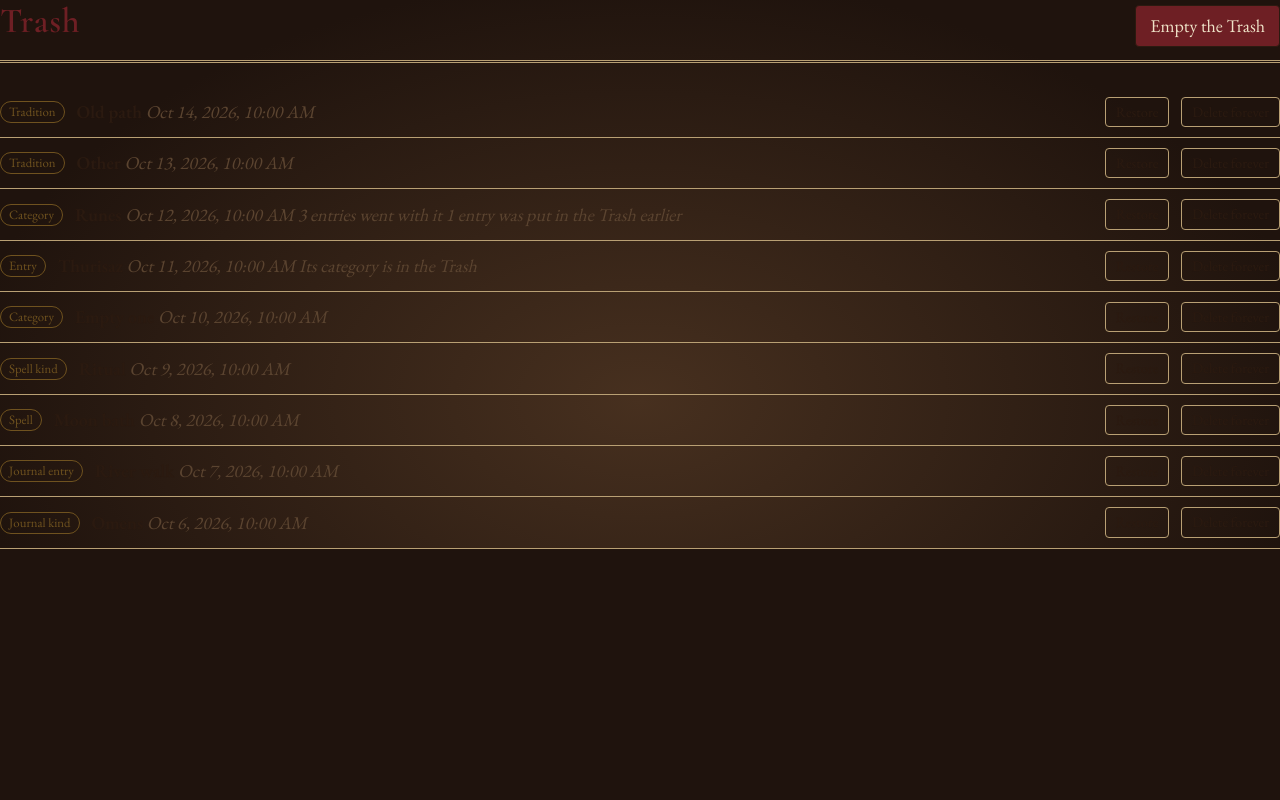
Trash › says which entries a category takes with it before deleting it forever
Click the button "Delete forever" in the row of "Runes": (1231, 215) left=1181, top=200, right=1279, bottom=230
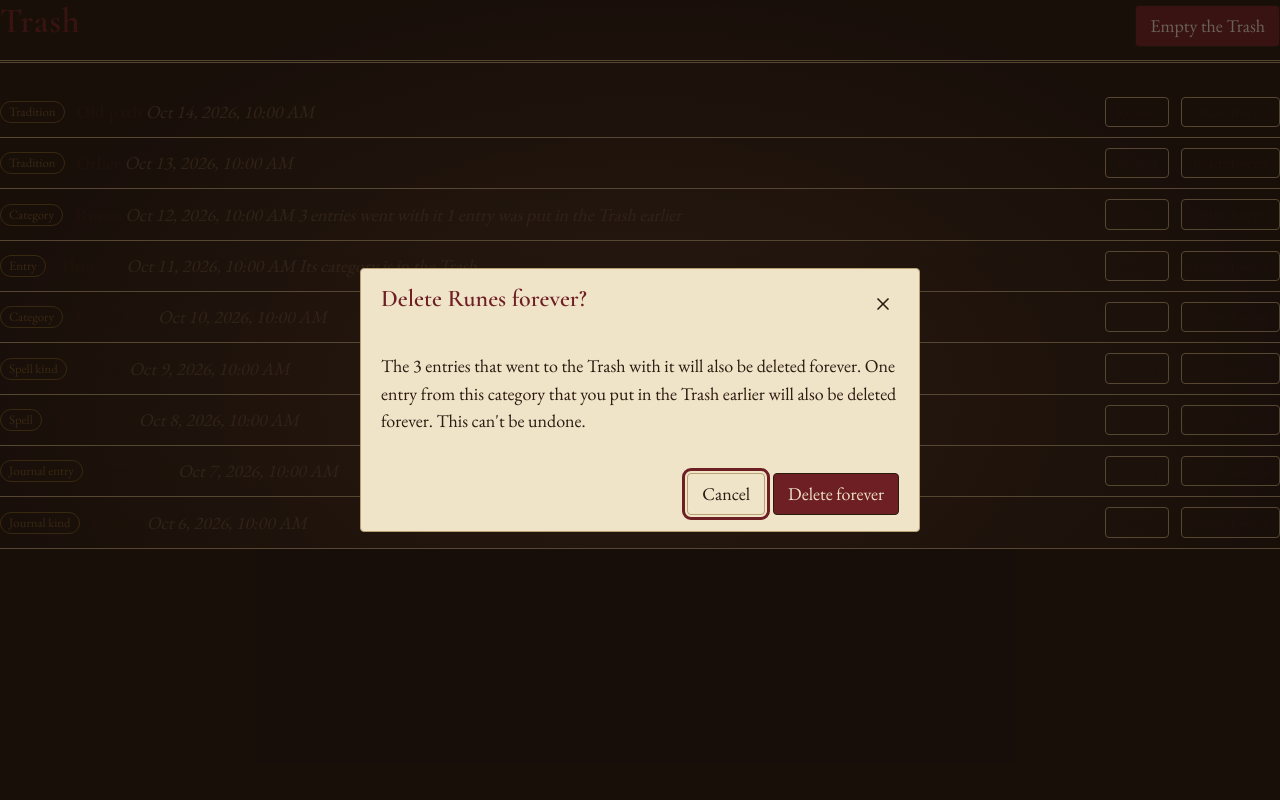
Now the text "The 3 entries that went to the Trash with it will also be deleted forever. One entry from this category that you put in " is shown, box left=381, top=354, right=896, bottom=432
Click the button "Cancel": (726, 494) left=687, top=473, right=765, bottom=515
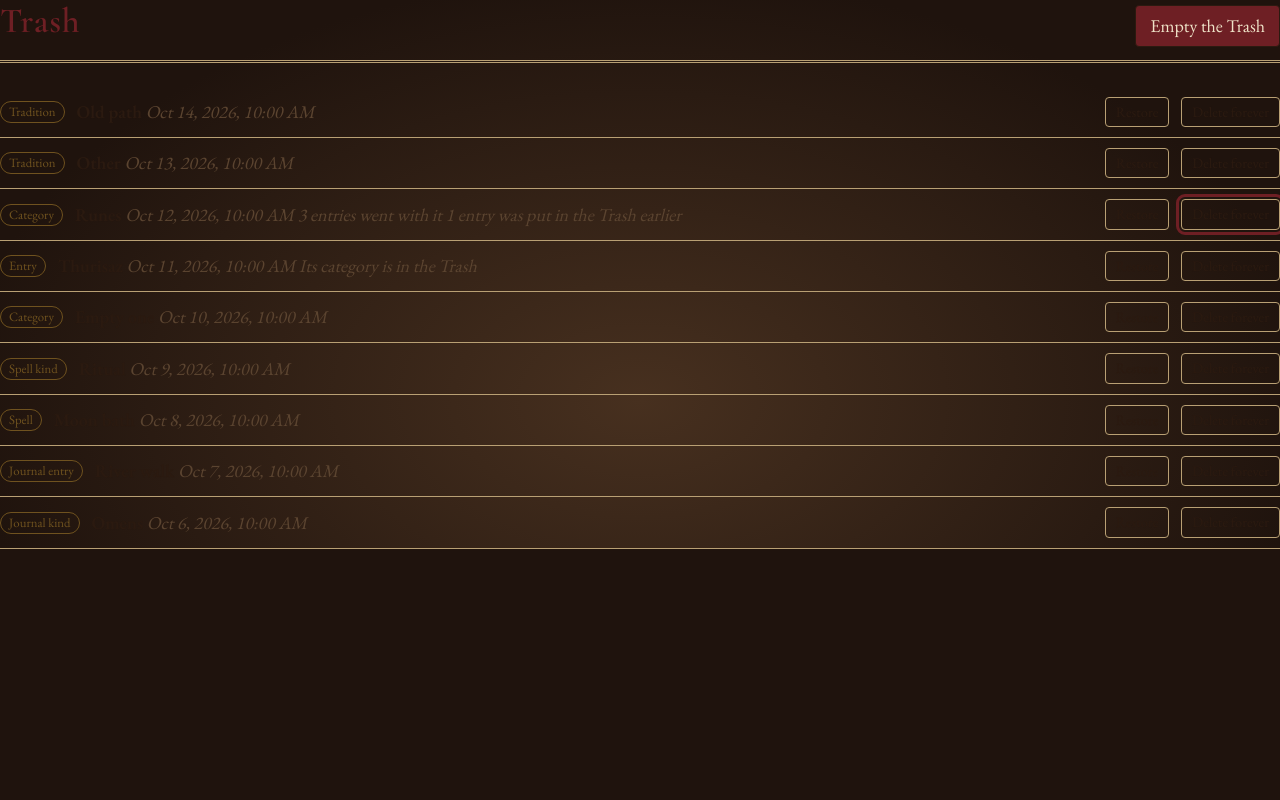
Click the button "Delete forever" in the row of "Empty one": (1231, 317) left=1181, top=302, right=1279, bottom=332
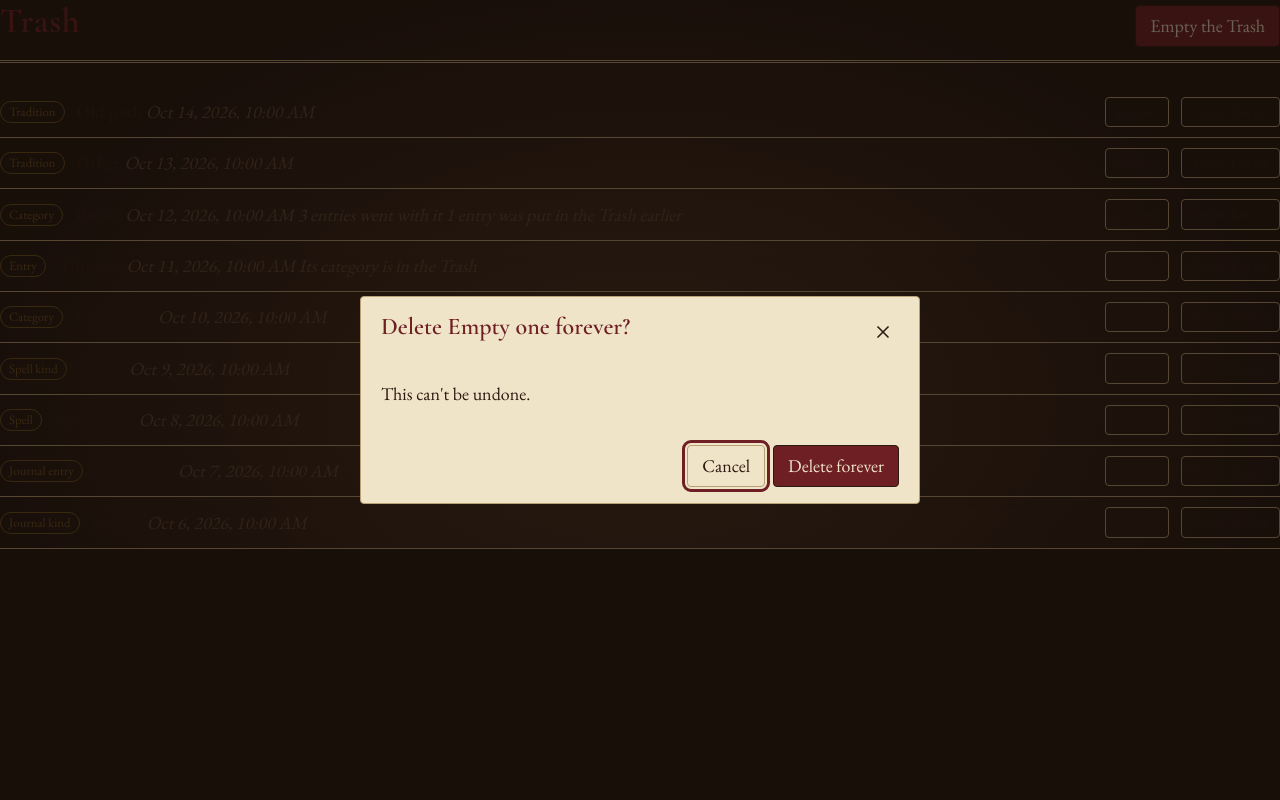
Now the text "This can't be undone." is shown, box left=381, top=382, right=530, bottom=404
